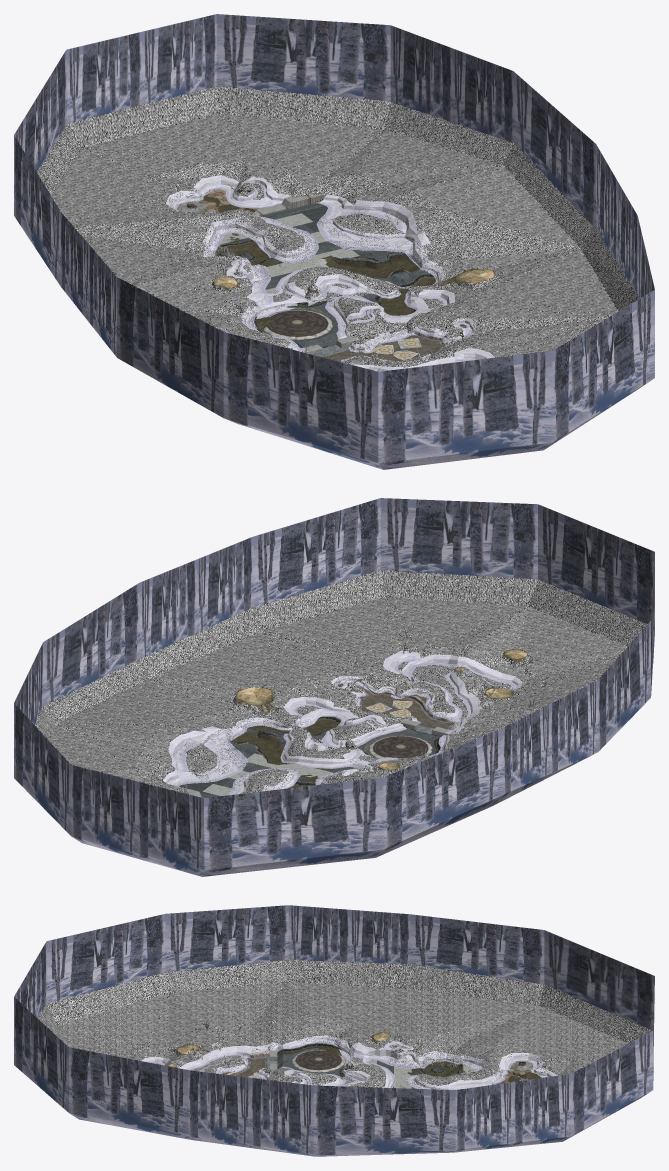
Rendered from tutorial_bake.dae.
3 renders of one model, top to bottom at view 1: azimuth 30°, elevation 25°; view 2: azimuth 150°, elevation 25°; view 3: azimuth 270°, elevation 25°, orthographic. The views are drawn at different scales.
Parts seen in each view (by area): view 1: m6, m26, m21, m27, m29, m18, m17, m28, m0, m30, m15, m8 (+4 smaller); view 2: m6, m26, m21, m27, m18, m10, m15, m29, m17, m23_1, m23, m28 (+1 smaller); view 3: m6, m26, m21, m27, m18, m28, m29, m23, m23_1, m17.
Boxes of the visible parts, left/top/right/bottom form: m6: left=14, top=14, right=654, bottom=469; m26: left=51, top=113, right=618, bottom=370; m21: left=37, top=86, right=638, bottom=346; m27: left=166, top=175, right=494, bottom=371; m29: left=203, top=196, right=435, bottom=329; m18: left=261, top=307, right=337, bottom=341; m17: left=220, top=213, right=359, bottom=293; m28: left=169, top=188, right=475, bottom=361; m0: left=243, top=189, right=398, bottom=347; m30: left=202, top=195, right=420, bottom=330; m15: left=321, top=324, right=465, bottom=361; m8: left=253, top=194, right=391, bottom=354; m6: left=14, top=498, right=654, bottom=876; m26: left=49, top=596, right=627, bottom=793; m21: left=34, top=570, right=647, bottom=794; m27: left=163, top=647, right=522, bottom=795; m18: left=364, top=733, right=436, bottom=758; m10: left=236, top=649, right=527, bottom=769; m15: left=337, top=684, right=453, bottom=729; m29: left=231, top=720, right=411, bottom=788; m17: left=202, top=753, right=363, bottom=795; m23_1: left=142, top=625, right=549, bottom=793; m23: left=143, top=628, right=548, bottom=793; m28: left=192, top=676, right=464, bottom=790; m6: left=14, top=905, right=654, bottom=1156; m26: left=54, top=981, right=628, bottom=1087; m21: left=38, top=959, right=652, bottom=1144; m27: left=141, top=1035, right=557, bottom=1089; m18: left=289, top=1048, right=345, bottom=1073; m28: left=218, top=1036, right=547, bottom=1089; m29: left=325, top=1047, right=540, bottom=1077; m23: left=116, top=1019, right=551, bottom=1086; m23_1: left=116, top=1017, right=551, bottom=1086; m17: left=370, top=1059, right=477, bottom=1088.
Bounding box in the file's own units: 6971 × 1580 × 10193.
